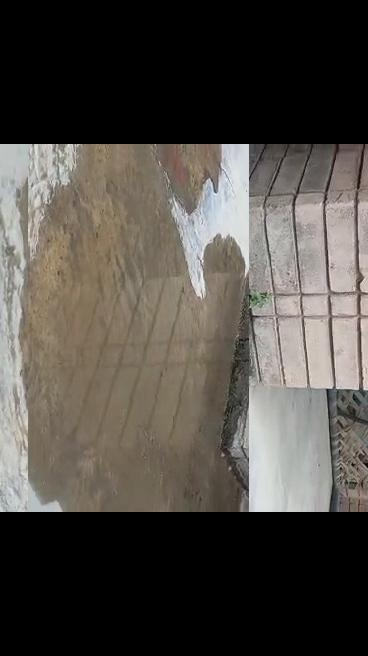water accumulation: (18, 144, 248, 512)
